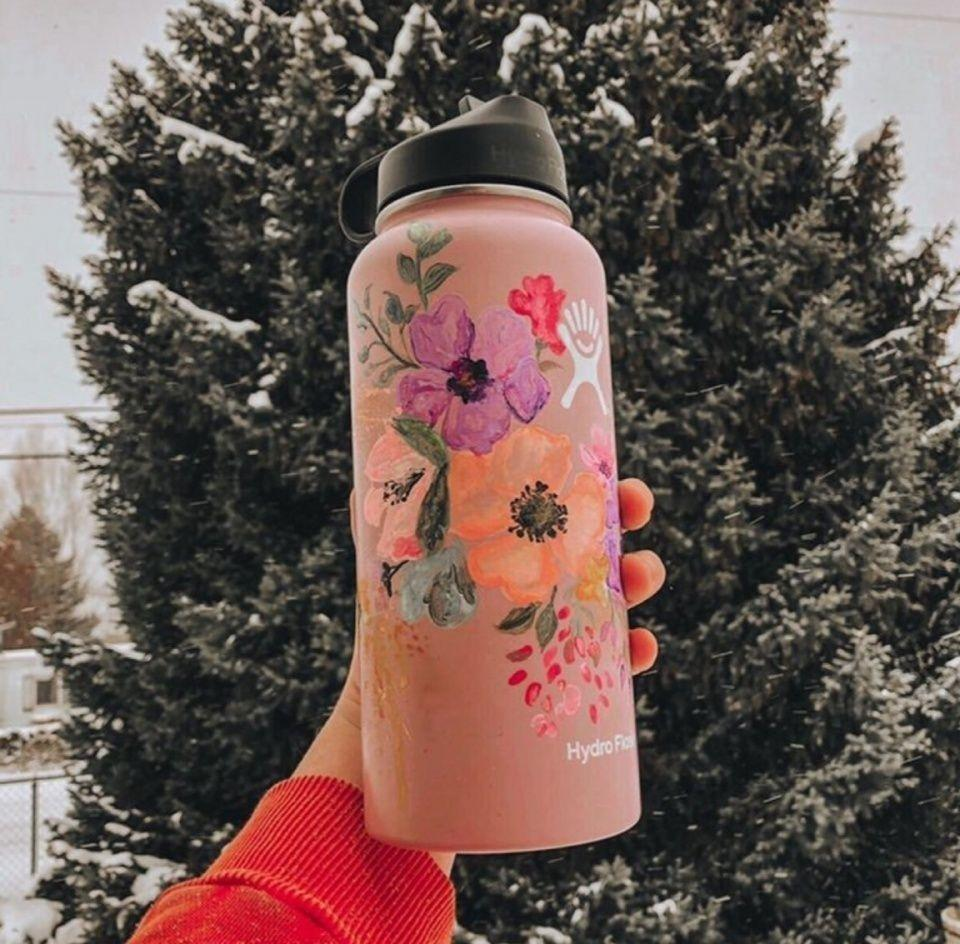gym bottle: (340, 96, 647, 857)
